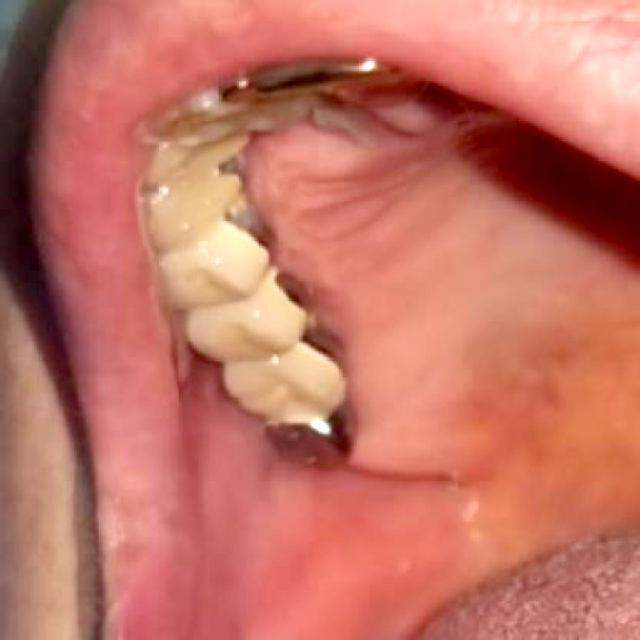Plaque: (240, 126, 387, 420)
